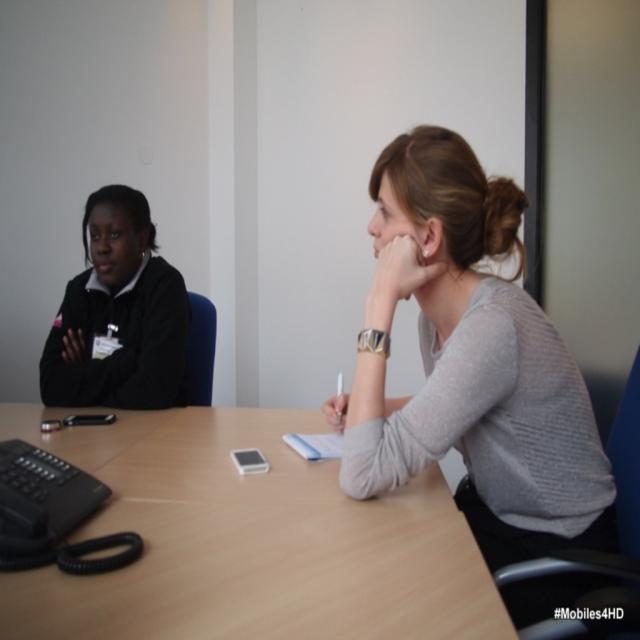chair: (492, 550, 640, 638), (605, 343, 640, 560), (185, 291, 217, 407)
desk: (0, 406, 519, 638)
keyboard: (1, 436, 111, 567)
person: (322, 124, 617, 602), (39, 184, 191, 410)
